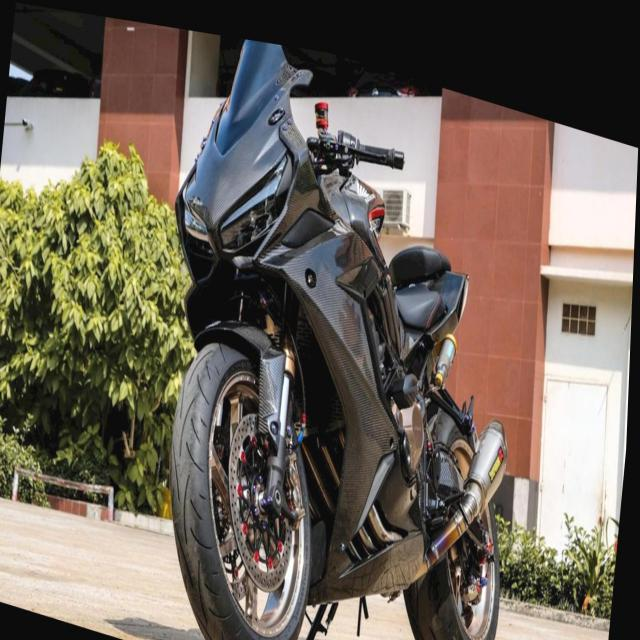CBR650R: (135, 20, 548, 640)
